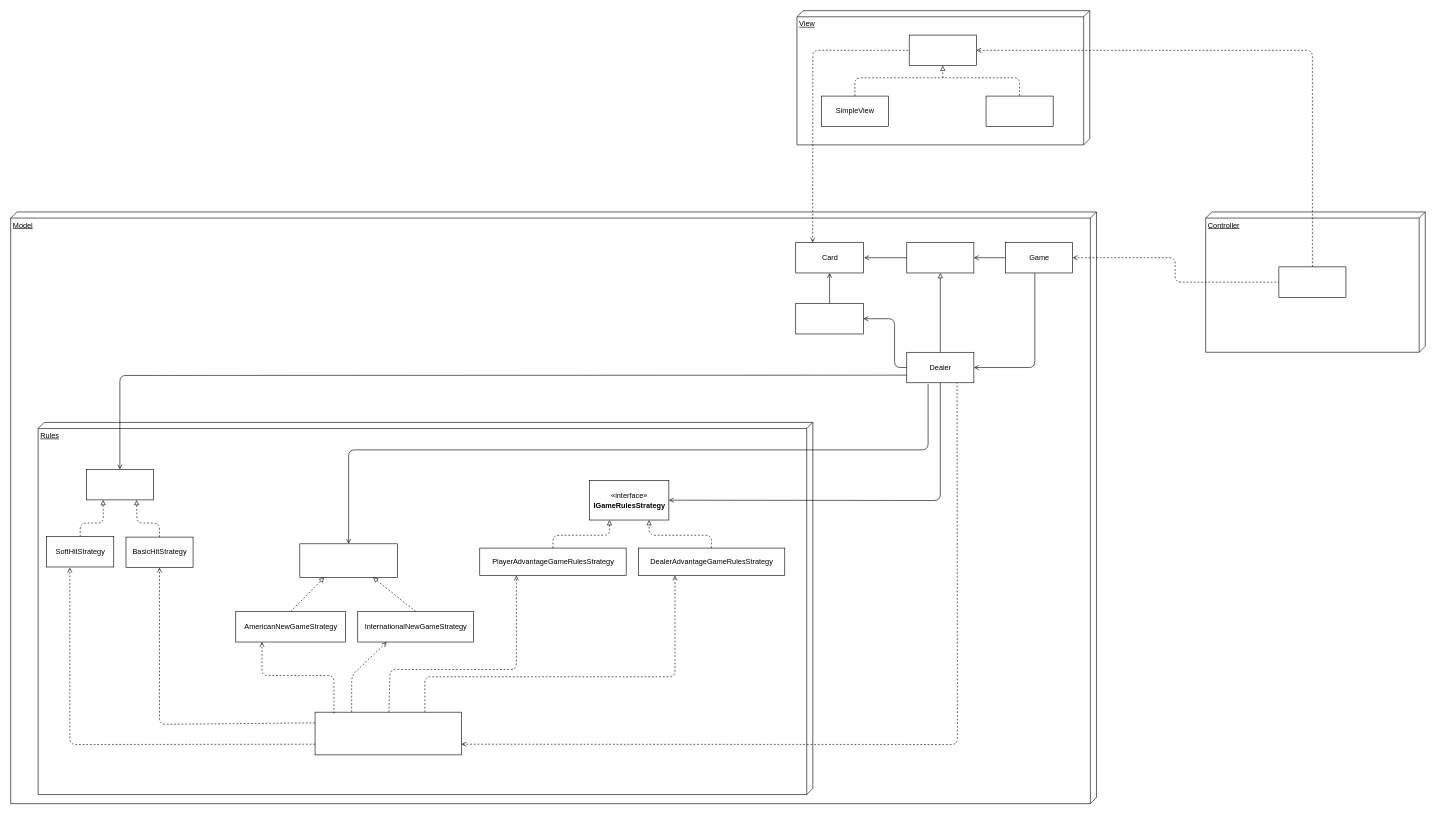
Some shapes in this 1436 by 814 pixel diagram are drawn without their labels. The shapes that lost their labels are listed below. From the top down, each one's centre as x and y in pixels, then its label:
At point 942,50: "«interface» IView".
At point 1019,111: "SwedishView".
At point 940,257: "Player".
At point 1312,281: "PlayGame".
At point 829,318: "Deck".
At point 119,484: "«interface» IHitStrategy".
At point 348,560: "«interface» INewGameStrategy".
At point 387,733: "RulesFactory".
